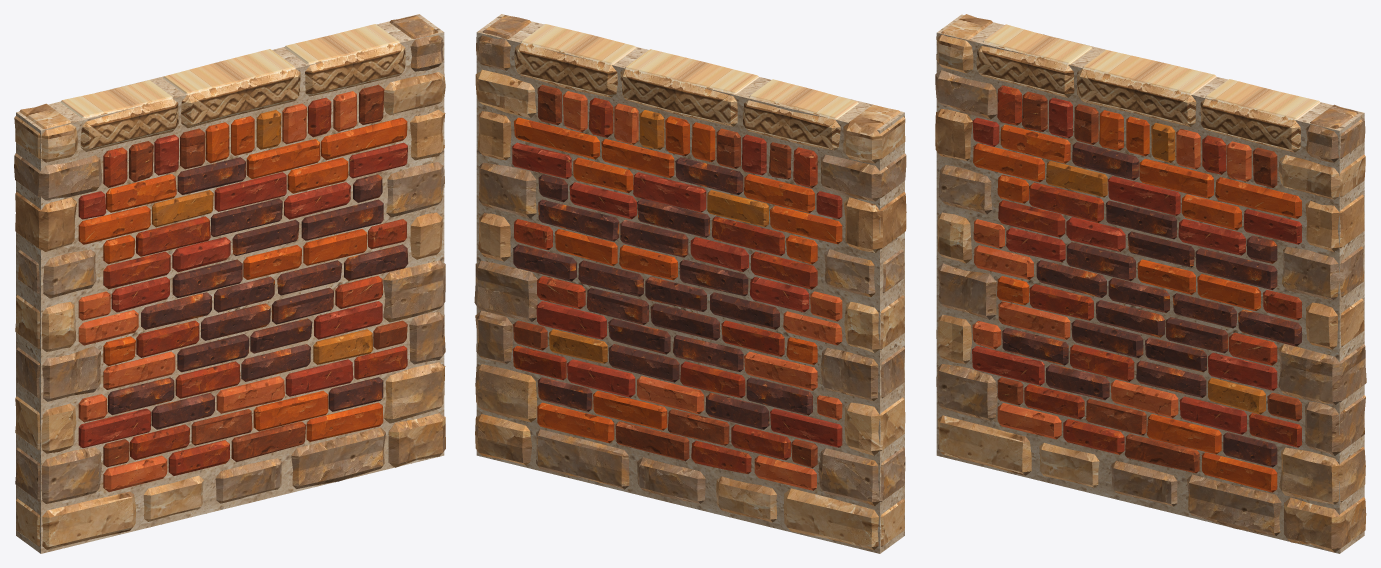
File: wall__clay_brick.glb
3 views of the same model, side by side, from view 1: azimuth 30°, elevation 25°; view 2: azimuth 150°, elevation 25°; view 3: azimuth 330°, elevation 25° (orthographic).
Visible parts, largest first — view 1: model; view 2: model; view 3: model.
Part boxes in pixels (x1=…): model: x1=14, y1=14, x2=445, y2=553; model: x1=474, y1=14, x2=906, y2=553; model: x1=935, y1=14, x2=1366, y2=553.
Size of the model in its own units: 1.98 by 1.98 by 0.285.
Materials: 14 (14 with a texture image).
